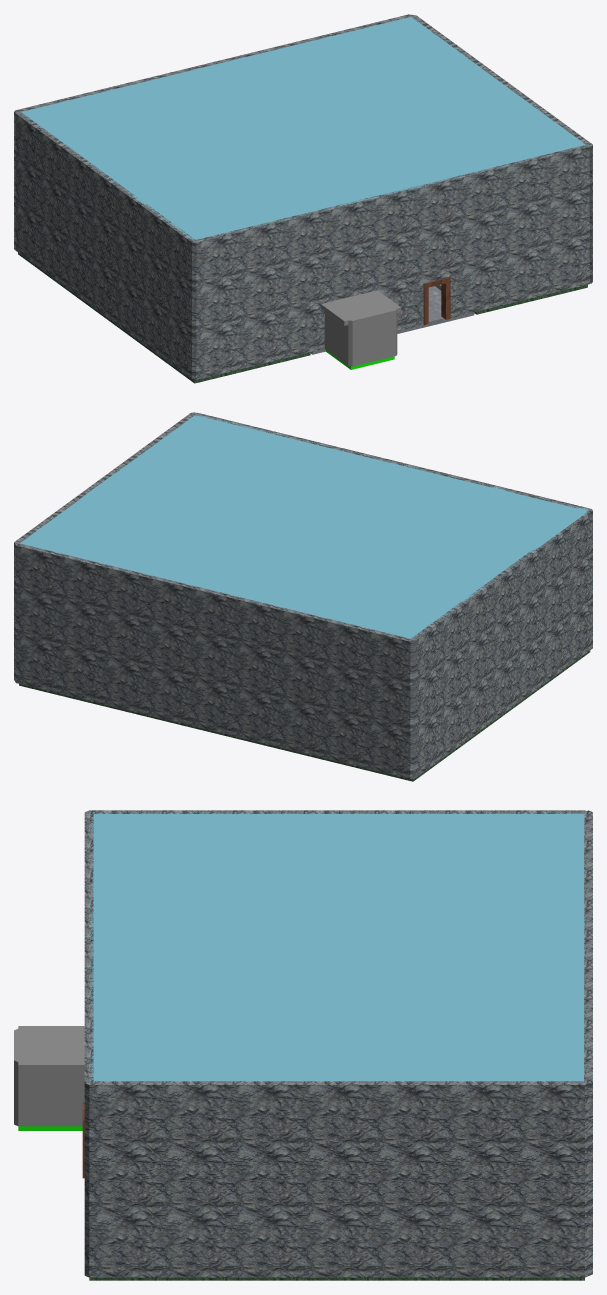
The model's file is Level_2_2.fbx.
3 views of the same model, one above another, from view 1: azimuth 30°, elevation 25°; view 2: azimuth 150°, elevation 25°; view 3: azimuth 270°, elevation 25° (orthographic). The views are drawn at different scales.
Parts seen in each view (by area): view 1: mergedBlocks; view 2: mergedBlocks; view 3: mergedBlocks.
Part boxes in pixels (box(x1,y1,x2,y2)): mergedBlocks: box(14, 14, 592, 383); mergedBlocks: box(14, 412, 592, 781); mergedBlocks: box(14, 810, 592, 1280).
Size of the model in its own units: 184 by 63.1 by 164.
19 materials, 8 textured.
